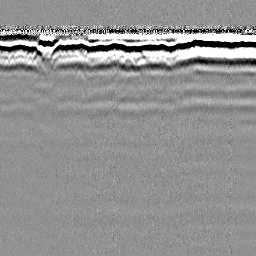cavity: (121, 52, 137, 68)
